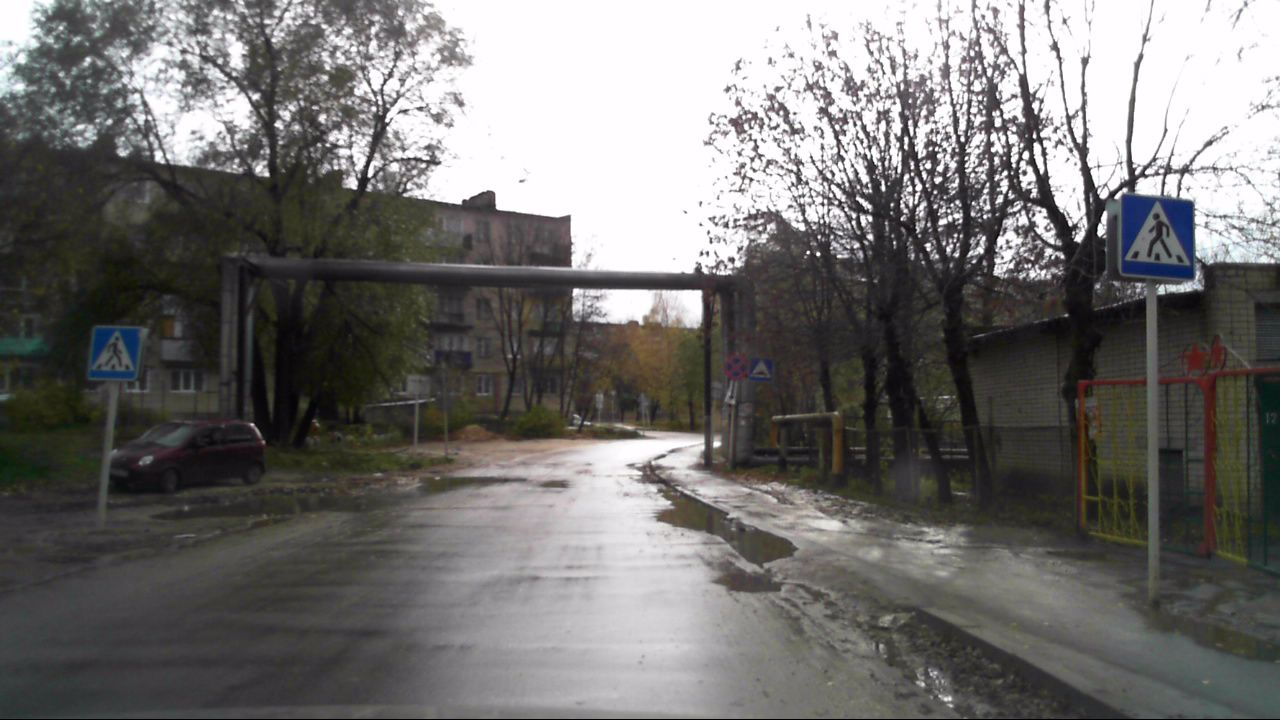No Parking: (723, 354, 749, 380)
